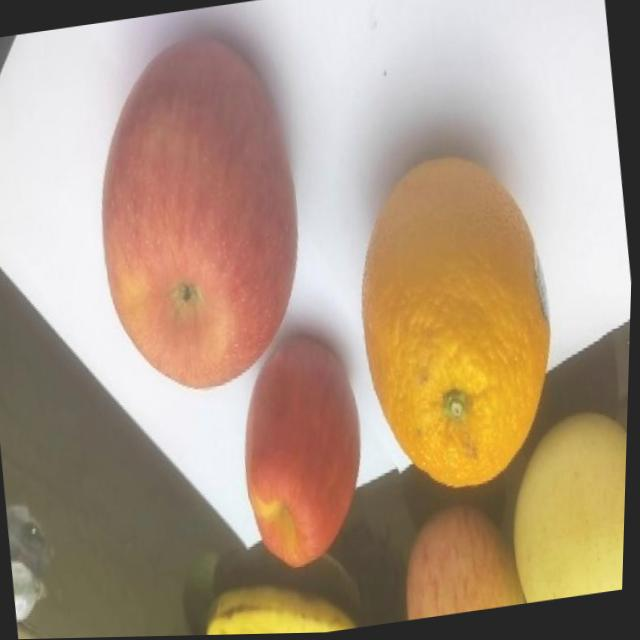Apple: (76, 16, 325, 404), (225, 333, 381, 581), (394, 495, 530, 623)
Banana: (203, 573, 366, 636)
Orange: (341, 142, 576, 500)
